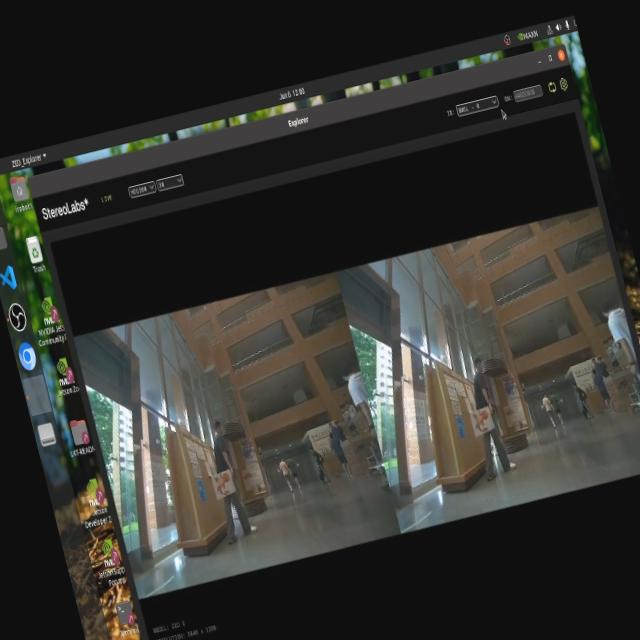red: (464, 398, 496, 437), (208, 464, 240, 496), (211, 468, 234, 496)
